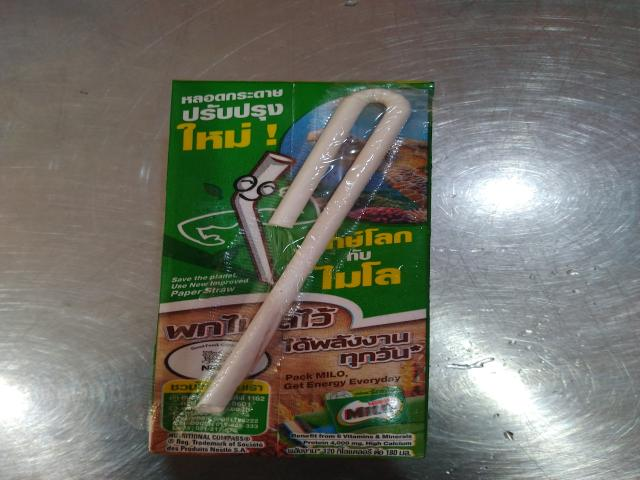drink_box: (119, 67, 454, 471)
